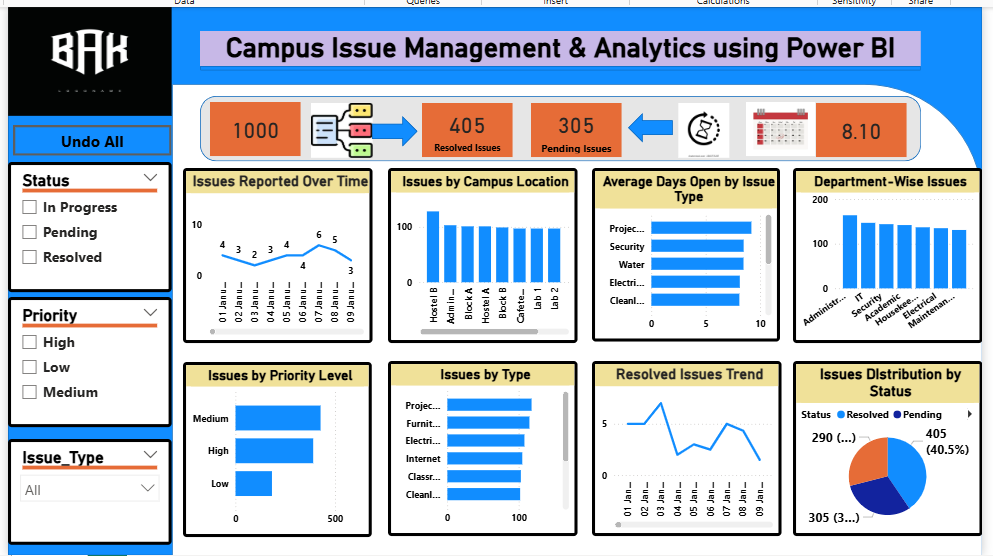

The page's visual inventory and layout, read from the dashboard file:
{"tool":"powerbi","page":{"name":"Page 1","canvas":[1280,720],"ordinal":0},"visuals":[{"type":"shape","box":[0,0,1280,720.6],"z":0},{"type":"shape","box":[215,100.8,1065,619.8],"z":1000},{"type":"shape","box":[252,117.6,947.4,85.7],"z":2000},{"type":"lineChart","title":"Issues Reported Over Time","fields":{"Category":["Sheet1.Date"],"Y":["CountNonNull(Sheet1.Issue_ID)"]},"box":[230.1,211.7,248.6,230.1],"z":3000},{"type":"columnChart","title":"Issues by Campus Location","fields":{"Category":["Sheet1.Location"],"Y":["CountNonNull(Sheet1.Issue_ID)"]},"box":[498.9,211.7,248.6,230.1],"z":4000},{"type":"columnChart","title":"Department-Wise  Issues ","fields":{"Category":["Sheet1.Department"],"Y":["CountNonNull(Sheet1.Issue_ID)"]},"box":[1031.4,211.7,248.6,230.1],"z":5000},{"type":"card","fields":{"Values":["CountNonNull(Sheet1.Issue_ID)"]},"box":[265.4,124.3,119.3,70.6],"z":6000},{"type":"card","fields":{"Values":["Sheet1.Resolved Issues"]},"box":[544.3,126,119.3,70.6],"z":7000},{"type":"card","fields":{"Values":["Sheet1.Pending Issues"]},"box":[687,126,119.3,70.6],"z":8000},{"type":"pieChart","title":"Issues DIstribution by Status","fields":{"Category":["Sheet1.Status"],"Y":["CountNonNull(Sheet1.Issue_ID)"]},"box":[1031.4,465.3,248.6,230.1],"z":9000},{"type":"clusteredBarChart","title":"Issues by Priority Level","fields":{"Category":["Sheet1.Priority"],"Y":["CountNonNull(Sheet1.Issue_ID)"]},"box":[230.1,467,248,230.1],"z":10000},{"type":"barChart","title":" Issues by Type","fields":{"Y":["CountNonNull(Sheet1.Issue_ID)"],"Category":["Sheet1.Issue_Type"]},"box":[498.9,465.3,248.6,230.1],"z":11000},{"type":"slicer","fields":{"Values":["Sheet1.Status"]},"box":[0,203.3,215,171.3],"z":12000},{"type":"slicer","fields":{"Values":["Sheet1.Priority"]},"box":[0,381.3,215,171.3],"z":13000},{"type":"slicer","fields":{"Values":["Sheet1.Issue_Type"]},"box":[0,567.8,215,139.4],"z":14000},{"type":"barChart","title":"Average  Days Open  by Issue Type","fields":{"Category":["Sheet1.Issue_Type"],"Y":["Sheet1.Average Open Days"]},"box":[767.7,211.7,246.9,228.5],"z":15000},{"type":"lineChart","title":"Resolved  Issues Trend","fields":{"Category":["Sheet1.Date"],"Y":["Sheet1.Avg Resolution Days"]},"box":[767.7,465.3,248.6,230.1],"z":16000},{"type":"card","fields":{"Values":["Sheet1.Average Open Days"]},"box":[1061.6,126,119.3,70.6],"z":17000},{"type":"image","box":[873.5,126,80.6,72.2],"z":18000},{"type":"image","box":[398.1,126,80.6,72.2],"z":19000},{"type":"shape","box":[478.7,142.8,60,40.3],"z":20000},{"type":"shape","box":[814.7,139.4,58.8,38.6],"z":21000},{"type":"image","box":[969.2,124.3,90.7,70.6],"z":22000},{"type":"shape","title":"Campus Issue Management & Analytics using Power BI","box":[252,31.9,947.4,52.1],"z":23000},{"type":"image","box":[0,0,215,142.8],"z":24000},{"type":"actionButton","box":[6.7,154.5,208.3,40.3],"z":25000}]}

Visuals, with their boxes in screenshot pixels (x1, y1, x2, y2):
shape: (x1=5, y1=5, x2=980, y2=554)
shape: (x1=169, y1=82, x2=980, y2=554)
shape: (x1=197, y1=95, x2=919, y2=160)
"Issues Reported Over Time" lineChart: (x1=180, y1=166, x2=370, y2=342)
"Issues by Campus Location" columnChart: (x1=385, y1=166, x2=574, y2=342)
"Department-Wise  Issues " columnChart: (x1=791, y1=166, x2=980, y2=342)
card - CountNonNull(Sheet1.Issue_ID): (x1=207, y1=100, x2=298, y2=154)
card - Sheet1.Resolved Issues: (x1=420, y1=101, x2=511, y2=155)
card - Sheet1.Pending Issues: (x1=528, y1=101, x2=619, y2=155)
"Issues DIstribution by Status" pieChart: (x1=791, y1=360, x2=980, y2=535)
"Issues by Priority Level" clusteredBarChart: (x1=180, y1=361, x2=369, y2=536)
" Issues by Type" barChart: (x1=385, y1=360, x2=574, y2=535)
slicer - Sheet1.Status: (x1=5, y1=160, x2=169, y2=290)
slicer - Sheet1.Priority: (x1=5, y1=296, x2=169, y2=426)
slicer - Sheet1.Issue_Type: (x1=5, y1=438, x2=169, y2=544)
"Average  Days Open  by Issue Type" barChart: (x1=590, y1=166, x2=778, y2=340)
"Resolved  Issues Trend" lineChart: (x1=590, y1=360, x2=779, y2=535)
card - Sheet1.Average Open Days: (x1=814, y1=101, x2=904, y2=155)
image: (x1=670, y1=101, x2=732, y2=156)
image: (x1=308, y1=101, x2=370, y2=156)
shape: (x1=370, y1=114, x2=415, y2=145)
shape: (x1=626, y1=111, x2=670, y2=141)
image: (x1=743, y1=100, x2=812, y2=154)
"Campus Issue Management & Analytics using Power BI" shape: (x1=197, y1=29, x2=919, y2=69)
image: (x1=5, y1=5, x2=169, y2=114)
actionButton: (x1=10, y1=123, x2=169, y2=154)
